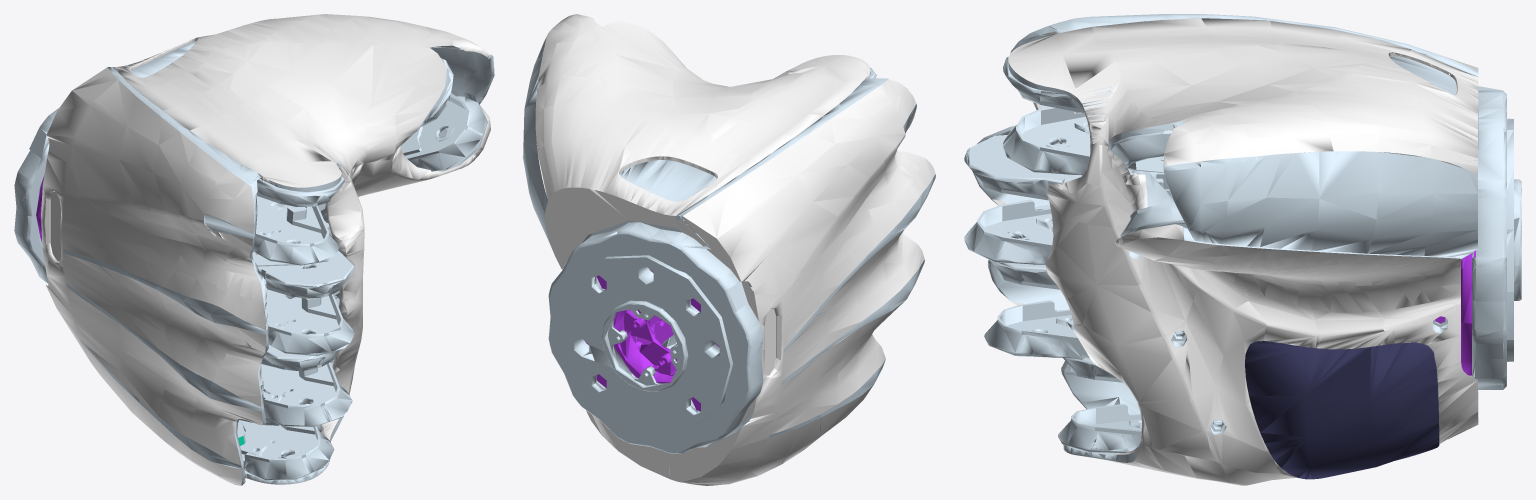
File: hit-hand-2-palm-right.obj
3 renders of one model, left to right at view 1: azimuth 30°, elevation 25°; view 2: azimuth 150°, elevation 25°; view 3: azimuth 270°, elevation 25°, orthographic. The views are drawn at different scales.
Visible parts, largest first — view 1: IndexedTriangleStripSet_38_IndexedTriangleStripSet_39, IndexedTriangleStripSet_36_IndexedTriangleStripSet_37, IndexedTriangleStripSet_28_IndexedTriangleStripSet_29, IndexedTriangleStripSet_26_IndexedTriangleStripSet_27, IndexedTriangleStripSet_8_IndexedTriangleStripSet_9, IndexedTriangleStripSet_18_IndexedTriangleStripSet_19, IndexedTriangleStripSet_16_IndexedTriangleStripSet_17, IndexedTriangleStripSet_6_IndexedTriangleStripSet_7; view 2: IndexedTriangleStripSet_38_IndexedTriangleStripSet_39, IndexedTriangleStripSet_36_IndexedTriangleStripSet_37, IndexedTriangleStripSet_28_IndexedTriangleStripSet_29, IndexedTriangleStripSet_26_IndexedTriangleStripSet_27, IndexedTriangleStripSet_18_IndexedTriangleStripSet_19, IndexedTriangleStripSet_8_IndexedTriangleStripSet_9, IndexedTriangleStripSet_16_IndexedTriangleStripSet_17, IndexedTriangleStripSet_6_IndexedTriangleStripSet_7, IndexedTriangleStripSet_34_IndexedTriangleStripSet_35, IndexedTriangleStripSet_24_IndexedTriangleStripSet_25; view 3: IndexedTriangleStripSet_38_IndexedTriangleStripSet_39, IndexedTriangleStripSet_36_IndexedTriangleStripSet_37, IndexedTriangleStripSet_28_IndexedTriangleStripSet_29, IndexedTriangleStripSet_26_IndexedTriangleStripSet_27, IndexedTriangleStripSet_32_IndexedTriangleStripSet_33, IndexedTriangleStripSet_8_IndexedTriangleStripSet_9, IndexedTriangleStripSet_16_IndexedTriangleStripSet_17, IndexedTriangleStripSet_18_IndexedTriangleStripSet_19, IndexedTriangleStripSet_6_IndexedTriangleStripSet_7, IndexedTriangleStripSet_22_IndexedTriangleStripSet_23, IndexedTriangleStripSet_2_IndexedTriangleStripSet_3, IndexedTriangleStripSet_12_IndexedTriangleStripSet_13.
Part boxes in pixels (x1,y1,x2,y2): IndexedTriangleStripSet_38_IndexedTriangleStripSet_39: (41,14,490,485); IndexedTriangleStripSet_36_IndexedTriangleStripSet_37: (14,42,494,484); IndexedTriangleStripSet_28_IndexedTriangleStripSet_29: (41,15,491,485); IndexedTriangleStripSet_26_IndexedTriangleStripSet_27: (14,42,492,485); IndexedTriangleStripSet_8_IndexedTriangleStripSet_9: (41,23,471,479); IndexedTriangleStripSet_18_IndexedTriangleStripSet_19: (48,31,470,467); IndexedTriangleStripSet_16_IndexedTriangleStripSet_17: (27,56,492,485); IndexedTriangleStripSet_6_IndexedTriangleStripSet_7: (27,41,493,476); IndexedTriangleStripSet_38_IndexedTriangleStripSet_39: (535,14,934,485); IndexedTriangleStripSet_36_IndexedTriangleStripSet_37: (523,19,935,453); IndexedTriangleStripSet_28_IndexedTriangleStripSet_29: (536,14,934,482); IndexedTriangleStripSet_26_IndexedTriangleStripSet_27: (523,33,934,474); IndexedTriangleStripSet_18_IndexedTriangleStripSet_19: (535,22,913,482); IndexedTriangleStripSet_8_IndexedTriangleStripSet_9: (536,24,935,484); IndexedTriangleStripSet_16_IndexedTriangleStripSet_17: (534,43,927,453); IndexedTriangleStripSet_6_IndexedTriangleStripSet_7: (524,46,882,438); IndexedTriangleStripSet_34_IndexedTriangleStripSet_35: (596,270,700,410); IndexedTriangleStripSet_24_IndexedTriangleStripSet_25: (585,269,719,381); IndexedTriangleStripSet_38_IndexedTriangleStripSet_39: (1008,18,1478,485); IndexedTriangleStripSet_36_IndexedTriangleStripSet_37: (964,14,1521,462); IndexedTriangleStripSet_28_IndexedTriangleStripSet_29: (992,18,1478,482); IndexedTriangleStripSet_26_IndexedTriangleStripSet_27: (964,14,1521,462); IndexedTriangleStripSet_32_IndexedTriangleStripSet_33: (1245,341,1439,479); IndexedTriangleStripSet_8_IndexedTriangleStripSet_9: (1002,18,1478,485); IndexedTriangleStripSet_16_IndexedTriangleStripSet_17: (964,15,1521,462); IndexedTriangleStripSet_18_IndexedTriangleStripSet_19: (1001,27,1478,485); IndexedTriangleStripSet_6_IndexedTriangleStripSet_7: (968,15,1506,459); IndexedTriangleStripSet_22_IndexedTriangleStripSet_23: (1251,341,1439,466); IndexedTriangleStripSet_2_IndexedTriangleStripSet_3: (1245,343,1433,477); IndexedTriangleStripSet_12_IndexedTriangleStripSet_13: (1256,342,1438,479).
Size of the model in its own units: 0.1249 by 0.1272 by 0.1442.
